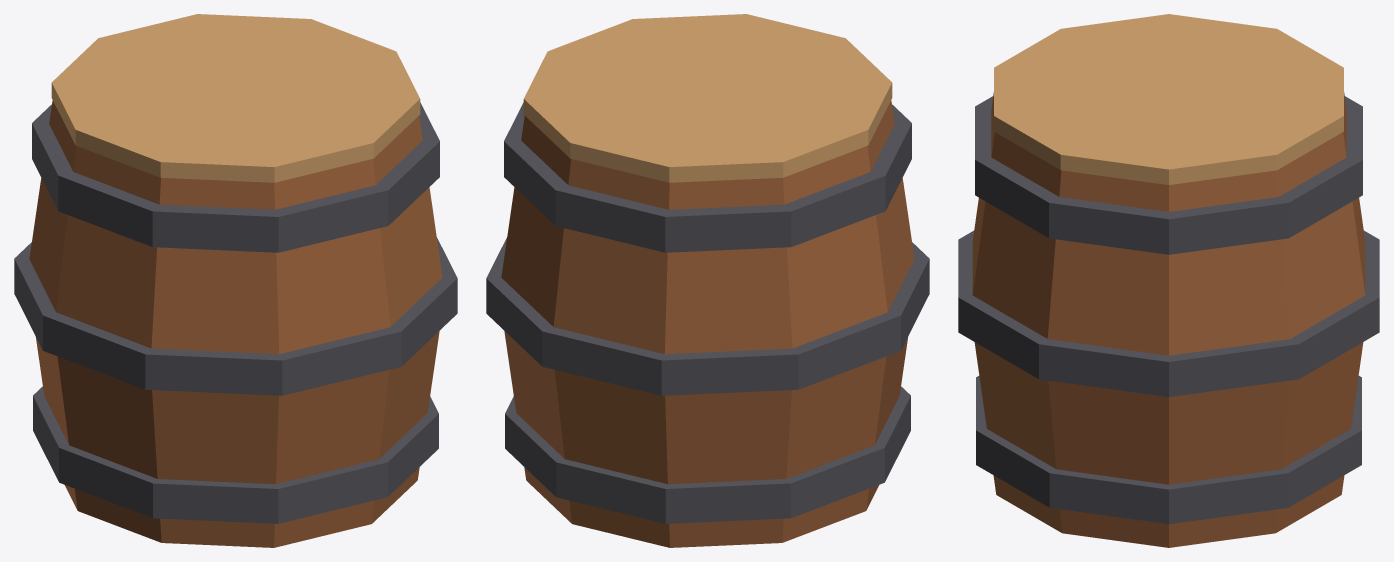
File: Barrel.fbx
3 renders of one model, left to right at view 1: azimuth 30°, elevation 25°; view 2: azimuth 150°, elevation 25°; view 3: azimuth 270°, elevation 25°, orthographic.
Visible parts, largest first — view 1: Barrel; view 2: Barrel; view 3: Barrel.
Part boxes in pixels (<box>): Barrel: <box>14,14,457,547</box>; Barrel: <box>486,14,929,547</box>; Barrel: <box>958,14,1379,547</box>.
Size of the model in its own units: 0.9818 by 0.9281 by 0.9337.
